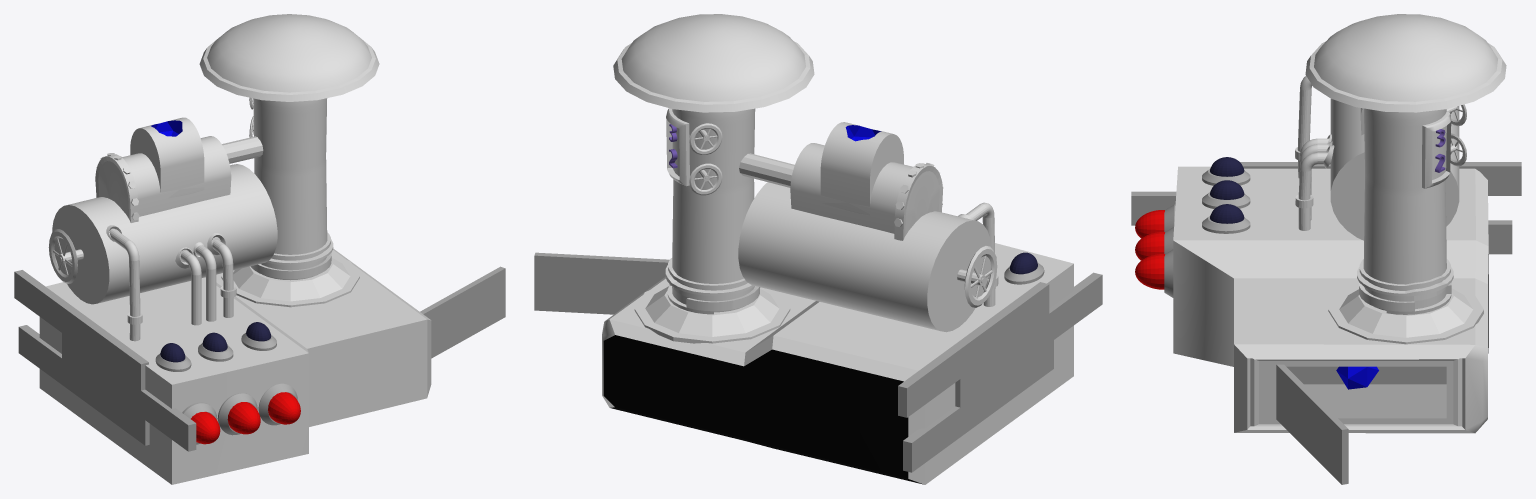
The picture shows the model from 3 angles, left to right: view 1: azimuth 30°, elevation 25°; view 2: azimuth 150°, elevation 25°; view 3: azimuth 270°, elevation 25°; orthographic projection. The views are drawn at different scales.
Visible parts, largest first — view 1: pCube10, pCylinder98, pCylinder65, pCylinder64, pCube12, pCube11, pCylinder97, pCube13, pCylinder58, pCube14, pSphere15, pSphere16 (+10 smaller); view 2: pCube10, pCylinder98, pCylinder65, pCylinder64, pCube11, pCube12, pCylinder58, pCylinder97, pCube14, pCube13, pCylinder82, pCylinder88 (+2 smaller); view 3: pCube10, pCylinder98, pCylinder58, pCylinder65, pCube11, pCube12, pSphere16, pTorus19, pCylinder102, pCube13, pCylinder101, pCylinder100 (+5 smaller).
Boxes of the visible parts, bbox=[...] form: pCube10: bbox=[39, 249, 431, 484]; pCylinder98: bbox=[199, 14, 379, 280]; pCylinder65: bbox=[52, 164, 277, 304]; pCylinder64: bbox=[95, 136, 231, 222]; pCube12: bbox=[14, 270, 148, 390]; pCube11: bbox=[420, 266, 505, 358]; pCylinder97: bbox=[130, 117, 204, 198]; pCube13: bbox=[62, 333, 196, 451]; pCylinder58: bbox=[221, 254, 359, 307]; pCube14: bbox=[18, 325, 149, 445]; pSphere15: bbox=[217, 393, 260, 435]; pSphere16: bbox=[258, 383, 300, 425]; pCube10: bbox=[602, 243, 1073, 484]; pCylinder98: bbox=[613, 14, 814, 314]; pCylinder65: bbox=[738, 182, 991, 332]; pCylinder64: bbox=[790, 143, 942, 240]; pCube11: bbox=[534, 252, 669, 314]; pCube12: bbox=[898, 282, 1049, 417]; pCylinder58: bbox=[634, 282, 790, 343]; pCylinder97: bbox=[820, 122, 903, 215]; pCube14: bbox=[903, 340, 1053, 472]; pCube13: bbox=[955, 272, 1102, 407]; pCylinder82: bbox=[957, 246, 997, 307]; pCylinder88: bbox=[739, 153, 794, 187]; pCube10: bbox=[1173, 166, 1488, 433]; pCylinder98: bbox=[1305, 14, 1506, 314]; pCylinder58: bbox=[1328, 284, 1483, 344]; pCylinder65: bbox=[1330, 99, 1459, 240]; pCube11: bbox=[1276, 364, 1348, 484]; pCube12: bbox=[1240, 162, 1521, 195]; pSphere16: bbox=[1135, 249, 1173, 297]; pTorus19: bbox=[1295, 152, 1330, 230]; pCylinder102: bbox=[1202, 204, 1250, 233]; pCube13: bbox=[1131, 191, 1176, 225]; pCylinder101: bbox=[1202, 180, 1250, 208]; pCylinder100: bbox=[1202, 157, 1250, 185].
Bounding box in the file's own units: 46.33 × 34.82 × 33.07.
